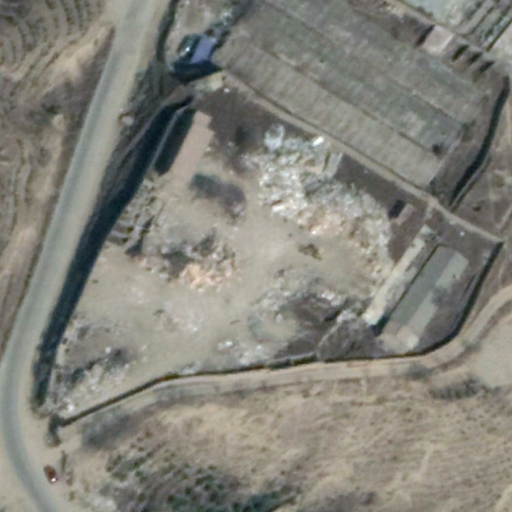msw: (243, 122, 394, 248)
